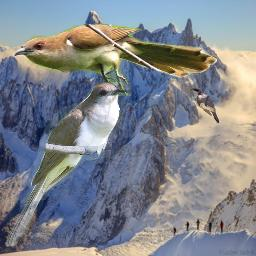Cuckoo: (4, 82, 125, 248), (13, 24, 218, 96), (188, 86, 219, 124)
